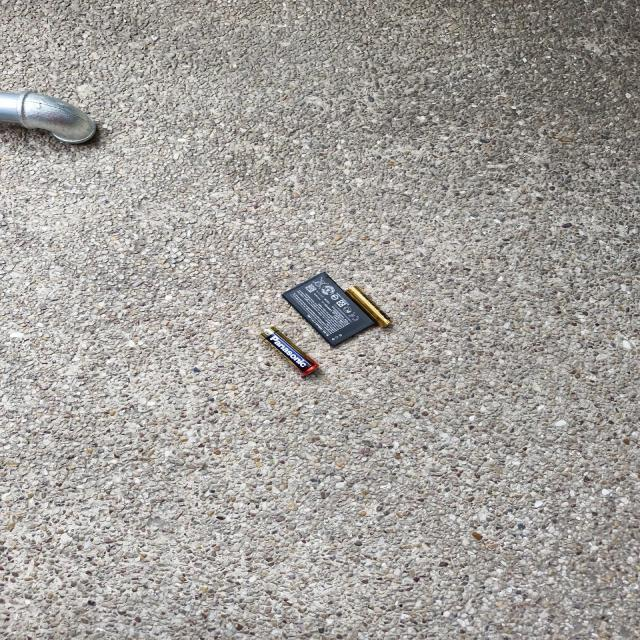battery: (267, 266, 400, 364)
